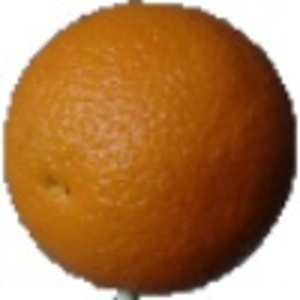laranja: (5, 3, 295, 300)
